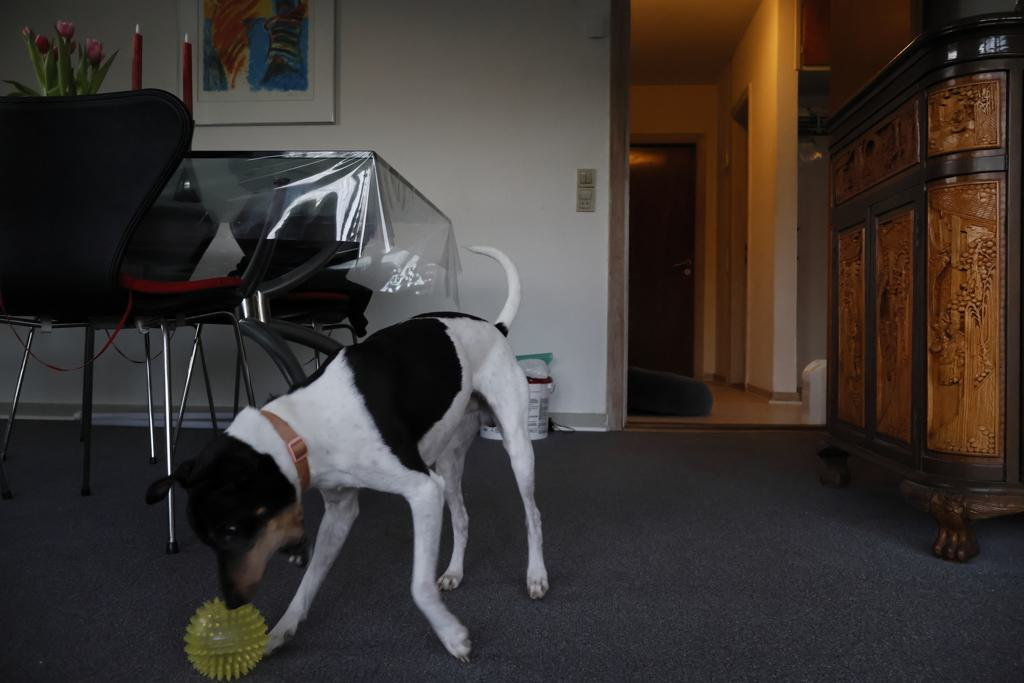Dog: (137, 238, 552, 676)
